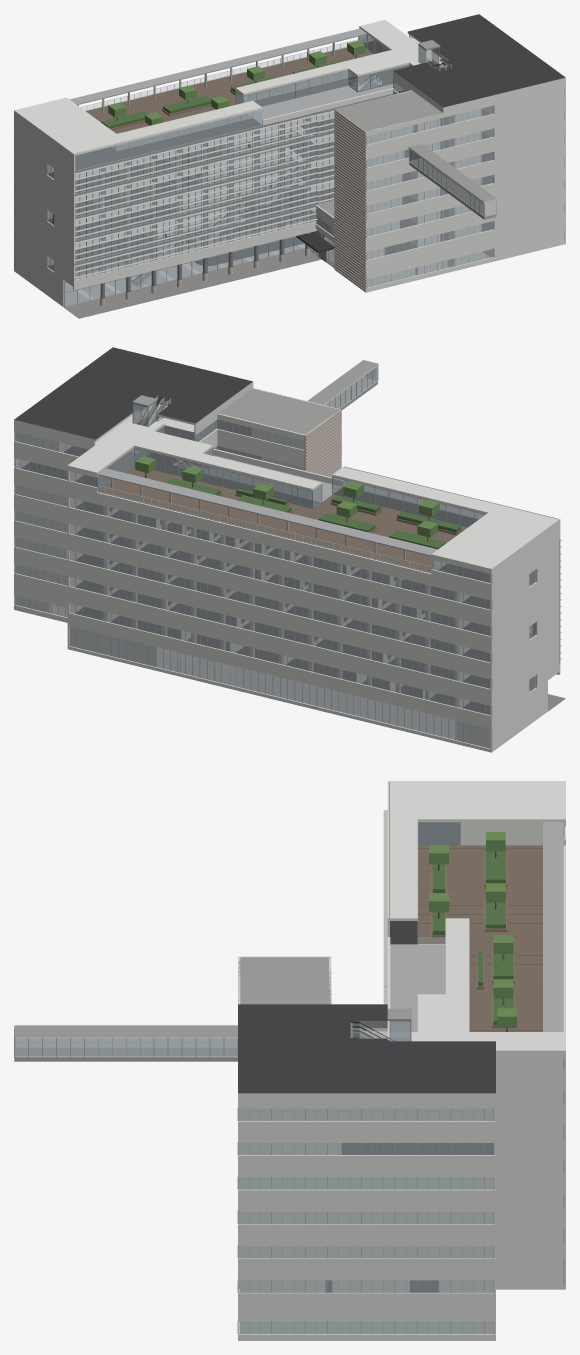
File: classroom_interior.fbx
3 renders of one model, top to bottom at view 1: azimuth 30°, elevation 25°; view 2: azimuth 150°, elevation 25°; view 3: azimuth 270°, elevation 25°, orthographic. The views are drawn at different scales.
Parts seen in each view (by area): view 1: 教室棟_外壁（南東は写真から・道路側と妻壁は仮）, 研究棟側_曲がり角_外壁, 教室棟_7F_空中庭園, 教室棟_7F_廊下と機械室, 研究棟側_曲がり角_床と部屋, 教室棟_ピロティの柱, 研究棟側_6Fの渡り廊下, 教室棟_3F_床と天井, 教室棟_4F_床と天井, 教室棟_5F_床と天井, 教室棟_6F_床と天井, 教室棟_2F_床と天井 (+6 smaller); view 2: 教室棟_外壁（南東は写真から・道路側と妻壁は仮）, 研究棟側_曲がり角_外壁, 教室棟_7F_空中庭園, 教室棟_7F_廊下と機械室, 研究棟側_曲がり角_床と部屋, 教室棟_1F_床と天井, 教室棟_1F_部屋と玄関ホール, 教室棟_4F_床と天井, 教室棟_3F_床と天井, 教室棟_2F_床と天井, 教室棟_6F_床と天井, 教室棟_5F_床と天井 (+11 smaller); view 3: 研究棟側_曲がり角_外壁, 教室棟_7F_空中庭園, 研究棟側_曲がり角_床と部屋, 教室棟_外壁（南東は写真から・道路側と妻壁は仮）, 教室棟_7F_廊下と機械室, 研究棟側_6Fの渡り廊下, 研究棟側_8Fのエスカレーターの着き場.
Boxes of the visible parts, <box> form: 教室棟_外壁（南東は写真から・道路側と妻壁は仮）: <box>14,20,416,318</box>; 研究棟側_曲がり角_外壁: <box>296,14,565,292</box>; 教室棟_7F_空中庭園: <box>70,28,408,170</box>; 教室棟_7F_廊下と機械室: <box>16,20,442,153</box>; 研究棟側_曲がり角_床と部屋: <box>311,38,494,287</box>; 教室棟_ピロティの柱: <box>100,118,310,305</box>; 研究棟側_6Fの渡り廊下: <box>408,144,497,219</box>; 教室棟_3F_床と天井: <box>75,170,334,262</box>; 教室棟_4F_床と天井: <box>48,148,334,239</box>; 教室棟_5F_床と天井: <box>75,126,334,216</box>; 教室棟_6F_床と天井: <box>48,85,364,193</box>; 教室棟_2F_床と天井: <box>48,209,327,286</box>; 教室棟_外壁（南東は写真から・道路側と妻壁は仮）: <box>67,439,565,752</box>; 研究棟側_曲がり角_外壁: <box>14,347,341,622</box>; 教室棟_7F_空中庭園: <box>76,450,489,582</box>; 教室棟_7F_廊下と機械室: <box>70,417,557,569</box>; 研究棟側_曲がり角_床と部屋: <box>16,405,303,616</box>; 教室棟_1F_床と天井: <box>160,653,455,739</box>; 教室棟_1F_部屋と玄関ホール: <box>70,626,489,747</box>; 教室棟_4F_床と天井: <box>76,554,532,661</box>; 教室棟_3F_床と天井: <box>76,580,489,688</box>; 教室棟_2F_床と天井: <box>76,607,557,714</box>; 教室棟_6F_床と天井: <box>76,466,535,608</box>; 教室棟_5F_床と天井: <box>76,528,489,635</box>; 研究棟側_曲がり角_外壁: <box>237,956,495,1340</box>; 教室棟_7F_空中庭園: <box>390,822,563,1040</box>; 研究棟側_曲がり角_床と部屋: <box>240,1021,493,1333</box>; 教室棟_外壁（南東は写真から・道路側と妻壁は仮）: <box>383,781,565,1289</box>; 教室棟_7F_廊下と機械室: <box>390,782,563,1049</box>; 研究棟側_6Fの渡り廊下: <box>14,1025,237,1061</box>; 研究棟側_8Fのエスカレーターの着き場: <box>359,1008,411,1041</box>.
Size of the model in its own units: 100 by 38.95 by 72.79.
